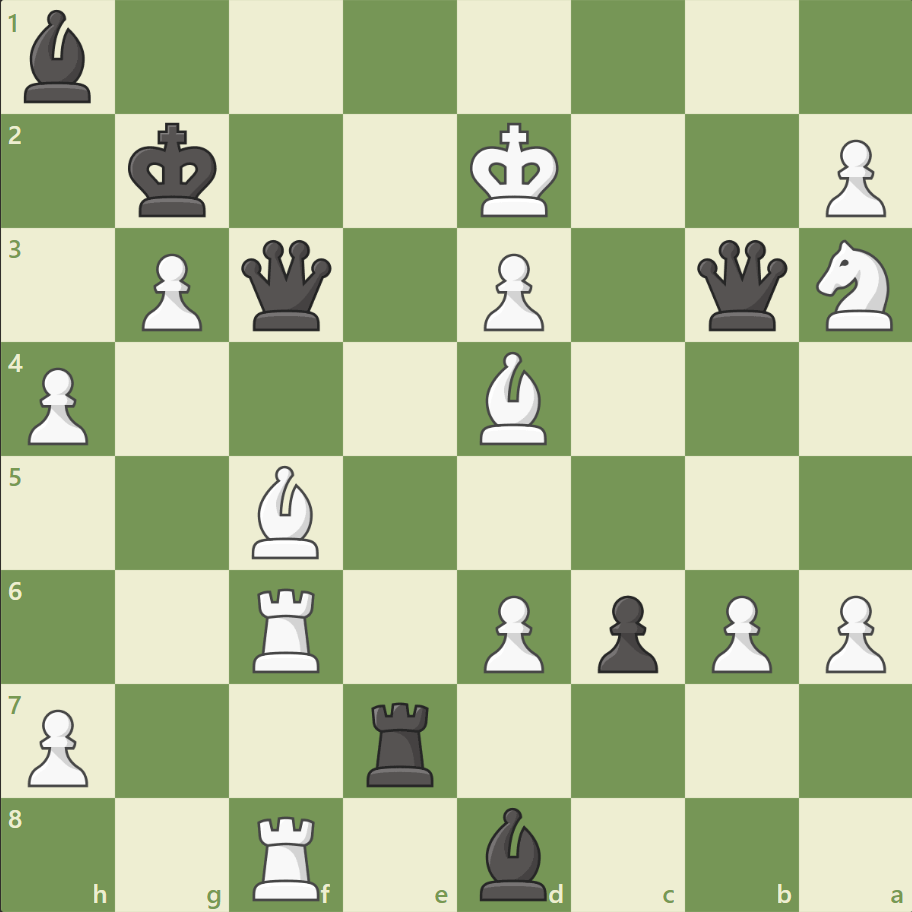B: (244, 460, 328, 563), (471, 347, 555, 449)
K: (465, 117, 565, 225)
N: (806, 234, 903, 337)
P: (20, 700, 95, 791), (701, 586, 776, 677), (474, 586, 549, 677), (20, 359, 95, 450), (474, 246, 549, 337), (133, 246, 208, 337), (815, 586, 889, 677), (815, 132, 889, 223)
R: (246, 806, 329, 904), (246, 579, 329, 676)
b: (471, 801, 555, 904), (17, 6, 101, 109)
k: (124, 117, 224, 225)
p: (588, 586, 662, 677)
q: (691, 236, 790, 335), (237, 236, 336, 335)
r: (360, 693, 442, 790)
